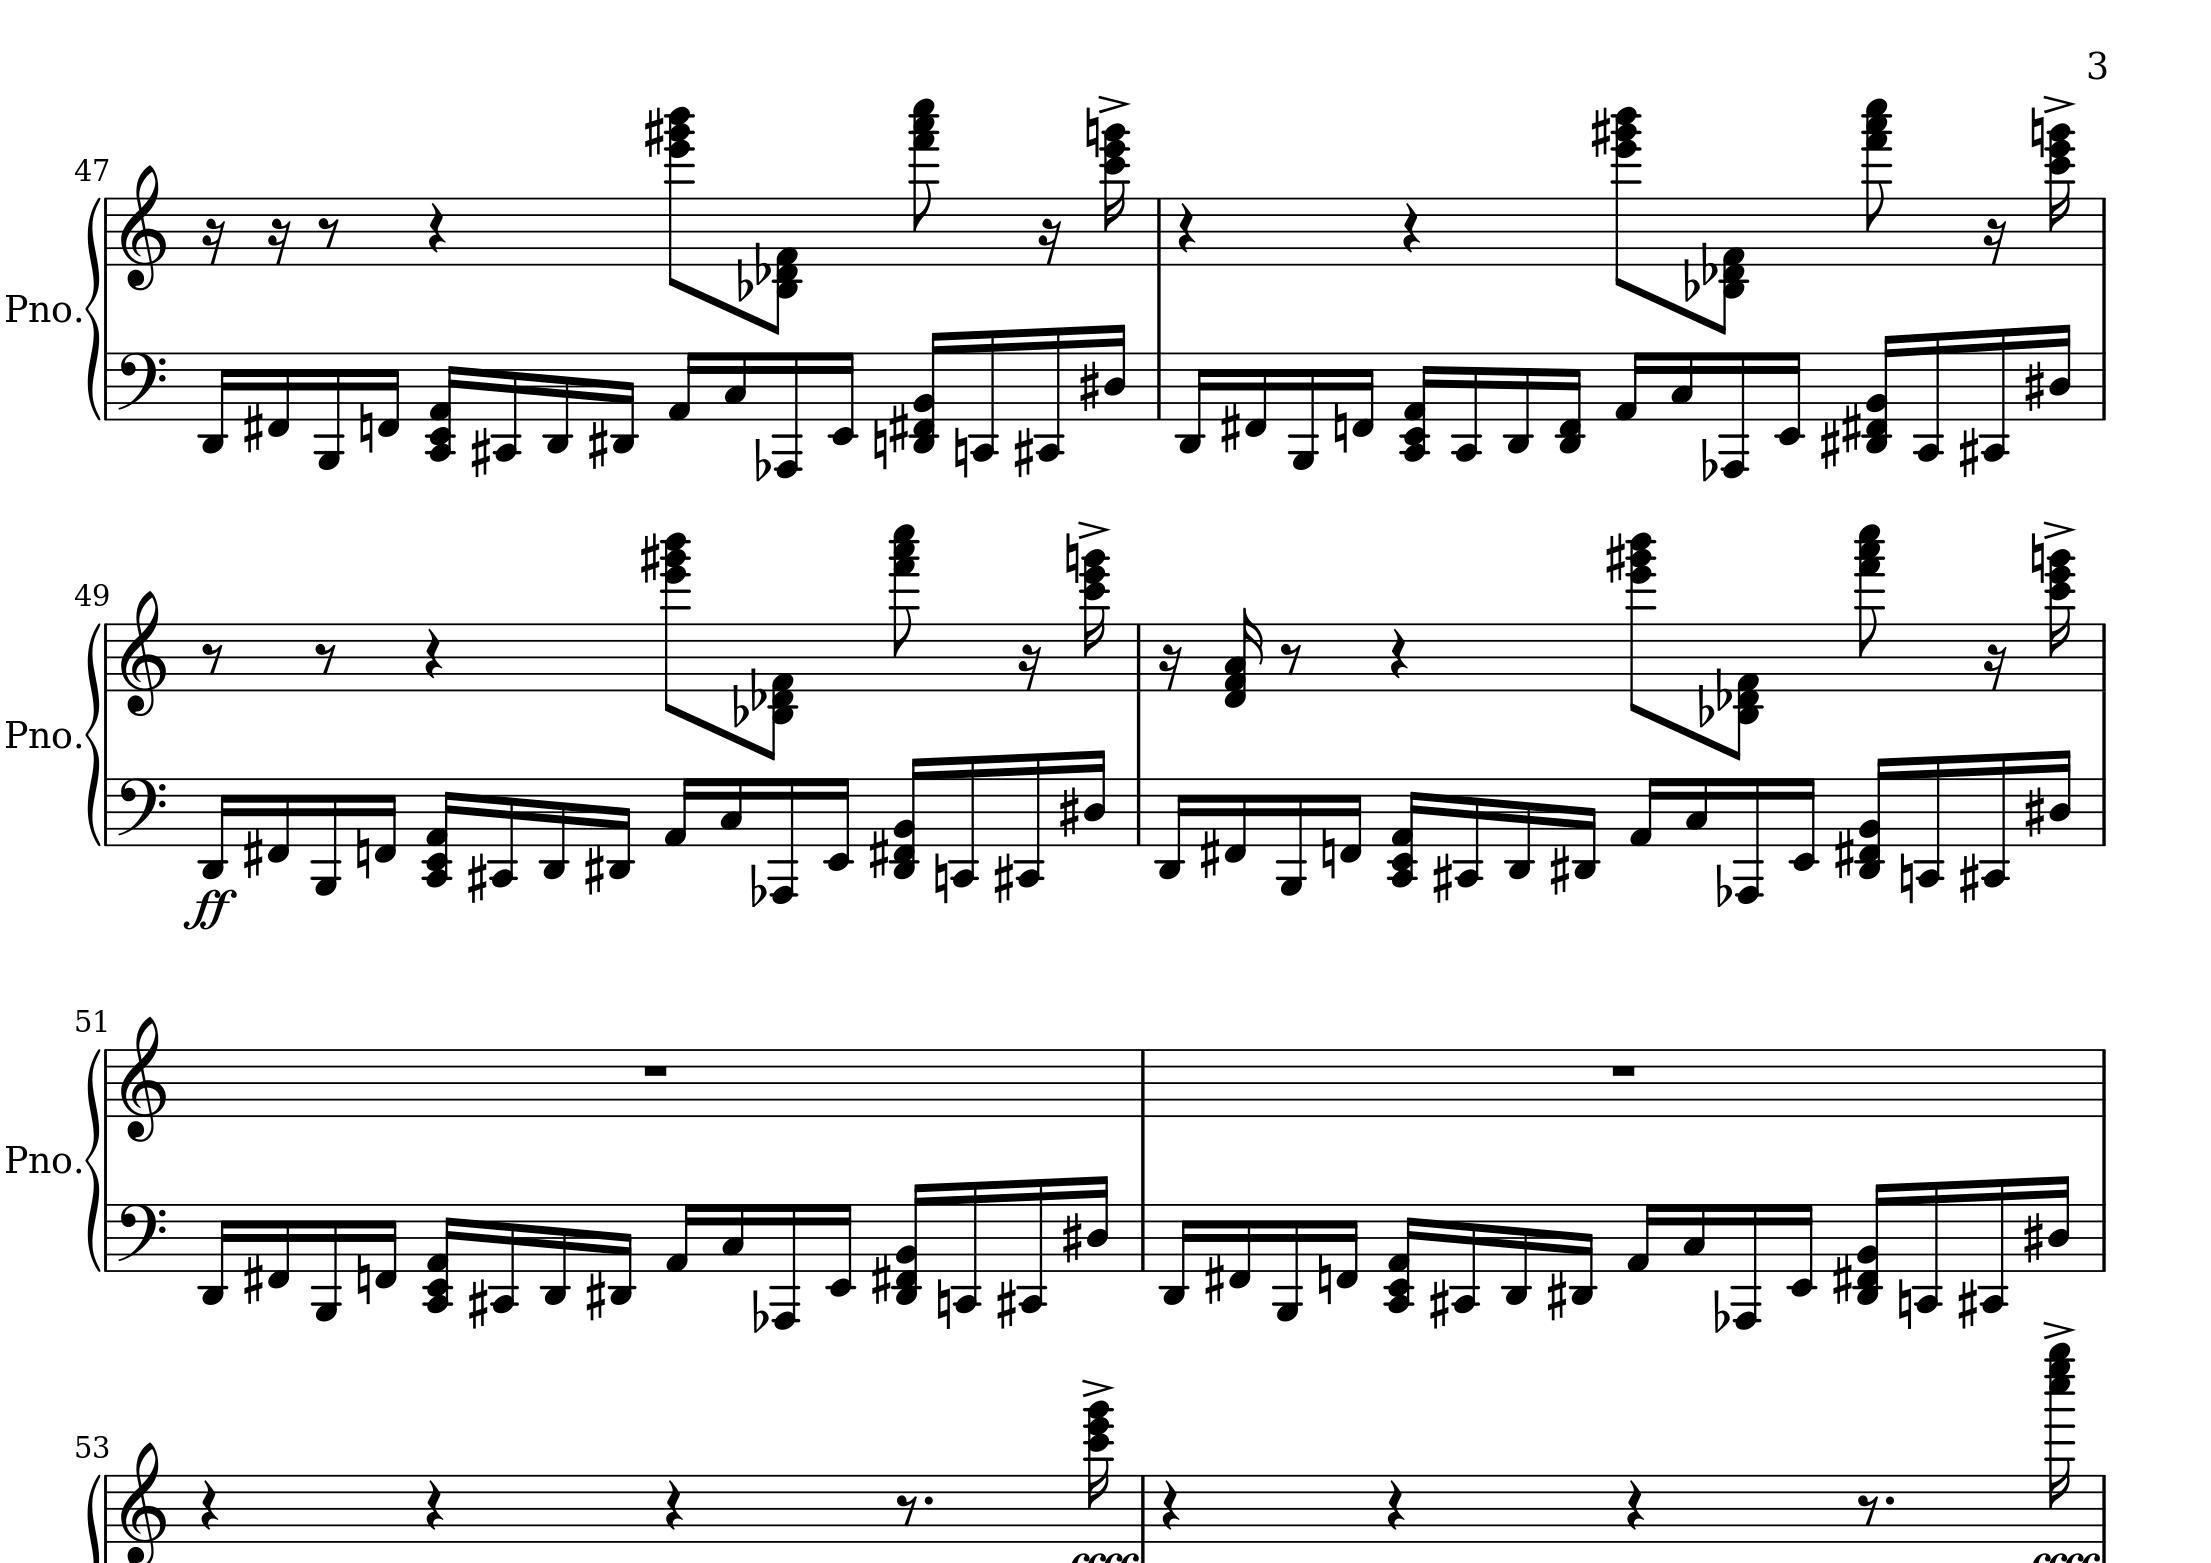1: (93, 1006, 107, 1035)
16_-1: (372, 776, 399, 863), (1243, 350, 1269, 438), (1352, 350, 1377, 438), (267, 776, 293, 864), (1223, 776, 1248, 864), (267, 1203, 293, 1291), (374, 1203, 399, 1291), (1228, 1203, 1254, 1291), (1335, 1203, 1360, 1291), (267, 352, 293, 438), (377, 352, 403, 438), (1340, 776, 1363, 864)
16_-2: (1786, 1199, 1817, 1297), (829, 348, 858, 447), (1775, 348, 1803, 447), (824, 775, 853, 873), (826, 1201, 854, 1297), (1790, 775, 1817, 875)
16_-3: (198, 1203, 233, 1308), (198, 352, 233, 455), (200, 775, 233, 880), (1155, 776, 1189, 881), (1159, 1203, 1193, 1308), (1176, 350, 1210, 453), (543, 350, 573, 453), (540, 1203, 570, 1304), (1572, 775, 1600, 881), (1568, 1201, 1597, 1308), (540, 775, 568, 880), (1506, 776, 1534, 881), (1502, 1203, 1531, 1308), (1504, 352, 1533, 455), (607, 1203, 636, 1306), (607, 775, 634, 881), (611, 352, 638, 455)
16_-3_-1: (1555, 348, 1587, 453)
16_-4: (1979, 325, 2010, 465), (1015, 751, 1045, 890), (1018, 1176, 1049, 1314), (768, 775, 800, 903), (949, 753, 979, 888), (1913, 753, 1944, 888), (1913, 328, 1944, 462), (1035, 325, 1064, 463), (1981, 751, 2010, 890), (969, 326, 998, 463), (952, 1177, 981, 1314), (1979, 1177, 2008, 1314), (1913, 1179, 1940, 1313), (1451, 348, 1482, 463), (487, 776, 518, 890), (491, 1199, 519, 1314), (492, 350, 521, 463), (1455, 776, 1484, 890), (1451, 1201, 1480, 1314)
16_-5: (1287, 352, 1319, 472), (311, 775, 342, 898), (1276, 776, 1306, 897), (311, 1203, 342, 1321), (316, 352, 347, 470), (1274, 1199, 1303, 1324)
16_-6: (771, 348, 805, 477), (770, 1199, 802, 1330), (1719, 350, 1751, 479), (1732, 775, 1764, 903), (1731, 1201, 1763, 1330)
16_1: (667, 350, 700, 423), (661, 776, 695, 847), (1627, 776, 1661, 847), (665, 1201, 697, 1274), (1626, 1201, 1658, 1274), (1614, 350, 1646, 421)
16_3: (1670, 348, 1697, 421), (721, 1201, 748, 1274), (722, 350, 749, 421), (1683, 776, 1710, 847), (1682, 1203, 1709, 1274), (719, 775, 744, 847)
16_4: (1083, 748, 1110, 847), (1086, 1172, 1111, 1274), (1103, 321, 1128, 421), (2049, 748, 2074, 847), (2047, 1174, 2072, 1270), (2049, 321, 2072, 421)
16_4th: (1864, 328, 1905, 458), (1079, 538, 1110, 694), (1100, 115, 1128, 266)
16_th: (2044, 1341, 2077, 1541), (892, 1181, 935, 1301), (912, 332, 952, 453), (1401, 352, 1445, 463), (425, 352, 469, 463), (1083, 1397, 1116, 1541), (421, 1204, 464, 1318), (2045, 122, 2077, 269), (1389, 775, 1429, 890), (892, 754, 929, 880), (1220, 607, 1265, 709), (421, 778, 464, 886), (1857, 1181, 1893, 1308), (1384, 1204, 1424, 1314), (2047, 546, 2076, 688)
3: (2086, 47, 2110, 81), (91, 1431, 112, 1460)
4: (73, 580, 91, 607), (74, 156, 91, 183)
4_th: (1717, 191, 1751, 337), (771, 189, 804, 337), (768, 621, 798, 760)
5: (73, 1429, 91, 1460), (74, 1006, 91, 1034)
7: (91, 156, 110, 183)
8_th: (1610, 103, 1644, 293), (660, 533, 694, 722), (1626, 531, 1660, 721), (665, 105, 697, 298), (1861, 93, 1895, 267), (908, 95, 939, 267), (1725, 621, 1763, 761), (892, 521, 920, 694), (1857, 521, 1886, 694)
9: (91, 579, 110, 607)
Accent_above: (1074, 518, 1111, 540), (1079, 1375, 1116, 1397), (1096, 91, 1132, 113), (2042, 518, 2077, 540), (2042, 91, 2076, 113), (2042, 1318, 2076, 1340)
Brace: (83, 1044, 101, 1274), (85, 193, 103, 420), (85, 621, 101, 847)
Fclef: (115, 348, 167, 420), (115, 775, 167, 842), (115, 1201, 167, 1269)
Flat: (1709, 1286, 1731, 1335), (1698, 435, 1719, 484), (736, 249, 754, 301), (746, 863, 766, 910), (1712, 863, 1732, 910), (749, 1287, 770, 1335), (1682, 250, 1700, 301), (753, 435, 771, 484), (1714, 666, 1732, 716), (1700, 240, 1717, 289), (749, 666, 766, 716), (1697, 678, 1714, 726), (754, 240, 770, 289), (732, 678, 748, 726)
Gclef: (118, 162, 169, 293), (118, 587, 169, 717), (118, 1013, 167, 1143), (118, 1440, 167, 1561)
Natural: (1062, 528, 1081, 585), (1083, 103, 1101, 159), (357, 399, 376, 453), (871, 416, 888, 472), (952, 425, 969, 480), (1331, 399, 1348, 455), (2028, 528, 2045, 584), (2028, 103, 2045, 157), (354, 825, 370, 880), (932, 851, 949, 905), (1319, 825, 1336, 880), (1316, 1252, 1333, 1304), (1898, 849, 1913, 905), (935, 1275, 951, 1331), (1896, 1275, 1912, 1331), (355, 1252, 370, 1304)
Pno: (2, 289, 73, 326), (2, 716, 74, 751), (2, 1142, 73, 1176)
Rests1: (639, 1061, 672, 1079), (1609, 1061, 1639, 1079)
Rests16: (1017, 643, 1044, 694), (201, 217, 227, 266), (266, 217, 291, 266), (1037, 217, 1062, 266), (1159, 643, 1184, 692), (1983, 643, 2008, 692), (1983, 217, 2006, 266)
Rests4: (1176, 201, 1198, 255), (1401, 201, 1423, 255), (1387, 628, 1409, 682), (1159, 1478, 1181, 1533), (1384, 1478, 1406, 1533), (426, 201, 447, 255), (423, 628, 443, 682), (198, 1478, 218, 1533), (663, 1478, 683, 1533), (425, 1478, 443, 1533), (1626, 1478, 1644, 1533)
Rests8: (313, 639, 338, 675), (200, 639, 225, 673), (1279, 641, 1303, 677), (895, 1490, 919, 1526), (1856, 1490, 1879, 1526), (316, 215, 340, 249)
Sharp: (1839, 399, 1863, 455), (886, 399, 910, 453), (638, 529, 661, 584), (868, 825, 892, 880), (1832, 825, 1856, 880), (870, 1252, 893, 1306), (1819, 413, 1841, 470), (1604, 531, 1627, 584), (1057, 783, 1079, 839), (1061, 1209, 1083, 1265), (2022, 1209, 2044, 1265), (643, 105, 665, 159), (1590, 103, 1612, 157), (1078, 359, 1100, 413), (1220, 401, 1242, 455), (2023, 359, 2045, 413), (1830, 1252, 1852, 1306), (469, 426, 491, 479), (1957, 426, 1979, 479), (584, 844, 606, 897), (1198, 827, 1220, 880), (1431, 851, 1453, 903), (2023, 785, 2045, 837), (1428, 1277, 1450, 1330), (465, 853, 487, 903), (1203, 1253, 1225, 1304), (1544, 1270, 1566, 1321), (242, 401, 262, 453), (587, 418, 607, 470), (1013, 426, 1034, 479), (1550, 844, 1570, 897), (467, 1277, 487, 1330), (585, 1270, 606, 1323), (993, 853, 1013, 903), (1959, 853, 1979, 903), (242, 1253, 262, 1304), (996, 1279, 1017, 1330), (1957, 1279, 1978, 1330), (244, 827, 262, 880)
Single_barline: (1132, 1049, 1154, 1116), (1128, 622, 1149, 690), (1128, 778, 1149, 846), (2093, 776, 2111, 846), (2093, 1203, 2111, 1272), (2093, 1049, 2111, 1116), (1133, 1203, 1152, 1270), (2094, 1473, 2111, 1543), (2094, 196, 2111, 264), (1150, 198, 1167, 266), (1150, 352, 1167, 420), (2094, 352, 2111, 420), (2094, 622, 2111, 690), (100, 1473, 115, 1543), (1135, 1475, 1150, 1543), (100, 778, 115, 844), (100, 1204, 115, 1269), (100, 622, 113, 690), (100, 198, 113, 264), (100, 352, 113, 418), (100, 1049, 113, 1115)
dot: (920, 1494, 935, 1505), (1883, 1494, 1896, 1505)
ff: (183, 885, 237, 934)
